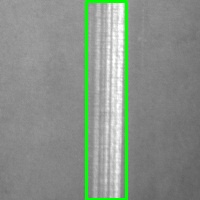scratches: (86, 1, 126, 199)
